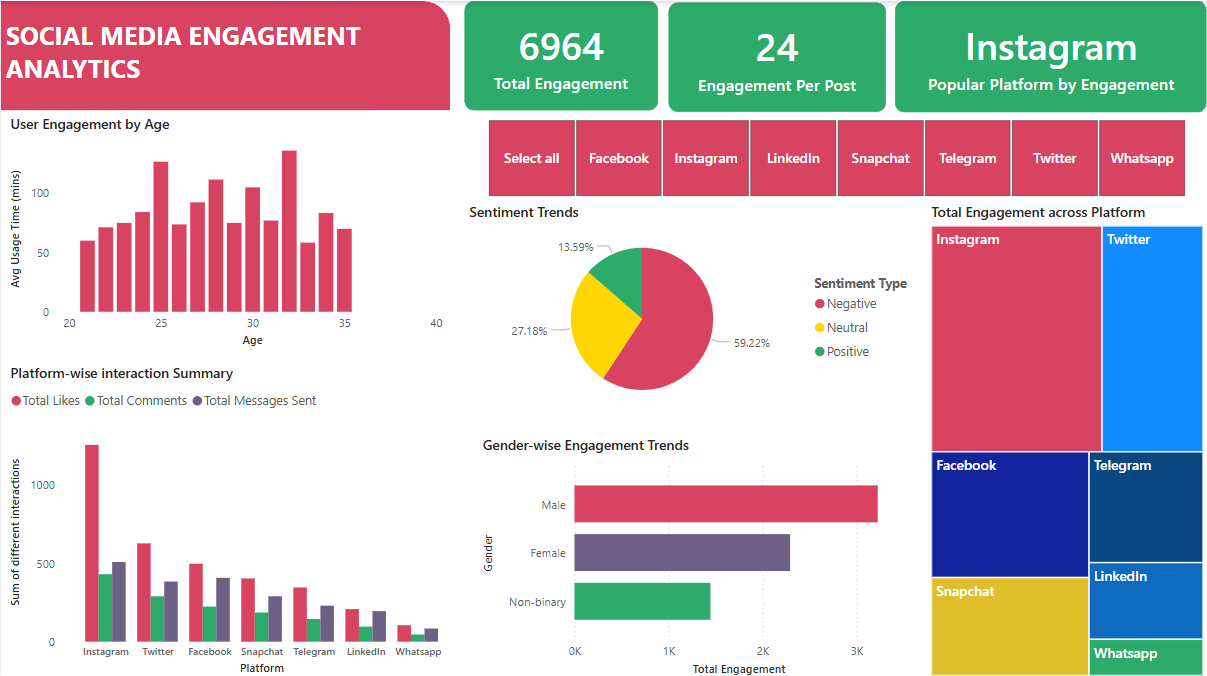

This screenshot's page, from the dashboard's own definition file:
{"tool":"powerbi","page":{"name":"Page 1","canvas":[1280,720],"ordinal":0},"visuals":[{"type":"card","fields":{"Values":["test.Total Engagement"]},"box":[491.6,0,205.4,116.2],"z":0},{"type":"textbox","box":[19.4,16.2,396.7,82.6],"z":1000},{"type":"shape","box":[0,0,476.4,116.2],"z":2000},{"type":"textbox","box":[0,13,398.3,89.1],"z":3000},{"type":"card","fields":{"Values":["test.Engagement Per Post"]},"box":[707.1,1.7,230.6,116.2],"z":4000},{"type":"card","fields":{"Values":["test.Most Popular Platform by Engagement"]},"box":[947.8,0,331.6,117.8],"z":5000},{"type":"columnChart","title":"User Engagement by Age","fields":{"Y":["test.Avg Usage Time"],"Category":["test.Age"]},"box":[4.8,119.3,472.4,252.9],"z":6000},{"type":"slicer","fields":{"Values":["test.Platform"]},"box":[491.6,119.5,787.9,94.3],"z":7000},{"type":"pieChart","title":"Sentiment Trends","fields":{"Category":["test.Sentiment Type"],"Y":["test.Sentiment Count"]},"box":[491.6,213.8,489.9,227.3],"z":8000},{"type":"treemap","title":"Total Engagement across Platform","fields":{"Group":["test.Platform"],"Values":["test.Total Engagement"]},"box":[981.5,213.8,298,506.7],"z":9000},{"type":"clusteredBarChart","title":"Gender-wise Engagement Trends","fields":{"Category":["test.Gender"],"Y":["test.Total Engagement"]},"box":[505,459.6,463,260.9],"z":10000},{"type":"clusteredColumnChart","title":"Platform-wise interaction Summary","fields":{"Y":["test.Total Likes","test.Total Comments","test.Total Messages Sent"],"Category":["test.Platform"]},"box":[5.1,383.8,486.5,336.7],"z":11000}]}

Visuals, with their boxes in screenshot pixels (x1, y1, x2, y2), scaled from the page's 1280x720 canvas onto the 1207x676 screenshot:
card - test.Total Engagement: [left=464, top=0, right=657, bottom=109]
textbox: [left=18, top=15, right=392, bottom=93]
shape: [left=0, top=0, right=449, bottom=109]
textbox: [left=0, top=12, right=376, bottom=96]
card - test.Engagement Per Post: [left=667, top=2, right=884, bottom=111]
card - test.Most Popular Platform by Engagement: [left=894, top=0, right=1206, bottom=111]
"User Engagement by Age" columnChart: [left=5, top=112, right=450, bottom=349]
slicer - test.Platform: [left=464, top=112, right=1206, bottom=201]
"Sentiment Trends" pieChart: [left=464, top=201, right=926, bottom=414]
"Total Engagement across Platform" treemap: [left=926, top=201, right=1206, bottom=675]
"Gender-wise Engagement Trends" clusteredBarChart: [left=476, top=432, right=913, bottom=675]
"Platform-wise interaction Summary" clusteredColumnChart: [left=5, top=360, right=464, bottom=675]
